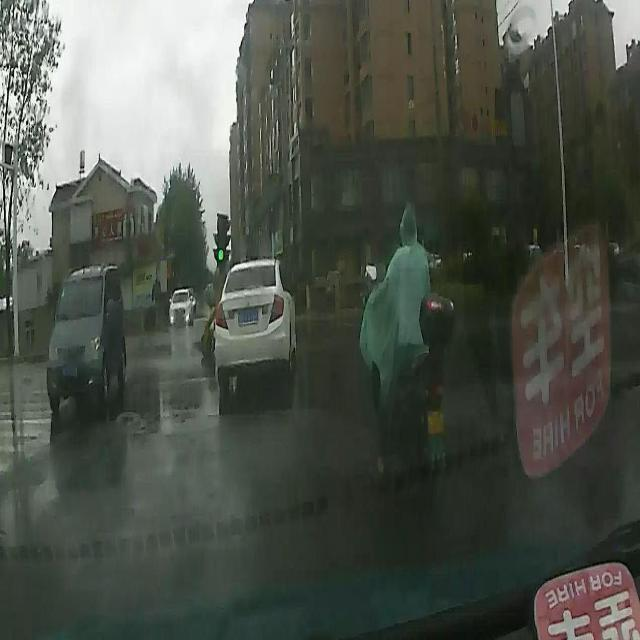car: (46, 260, 125, 408), (213, 258, 294, 389), (168, 288, 192, 325)
